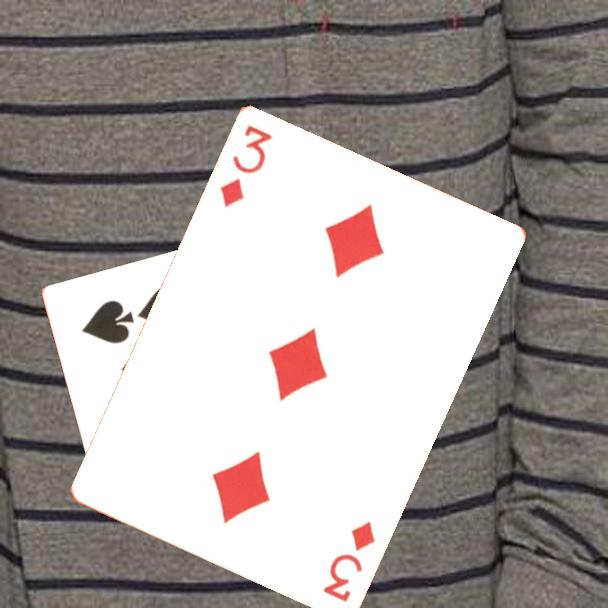d03: (319, 518, 379, 606), (216, 122, 275, 211)
